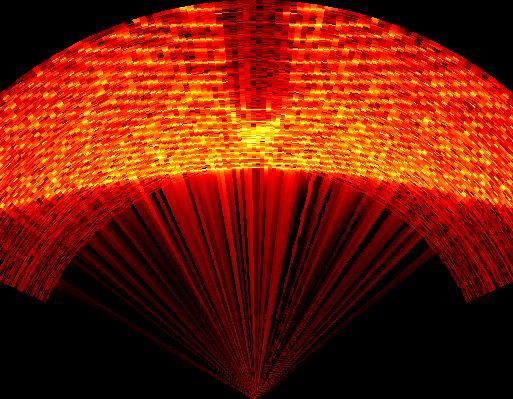box_crate: (222, 1, 298, 126)
